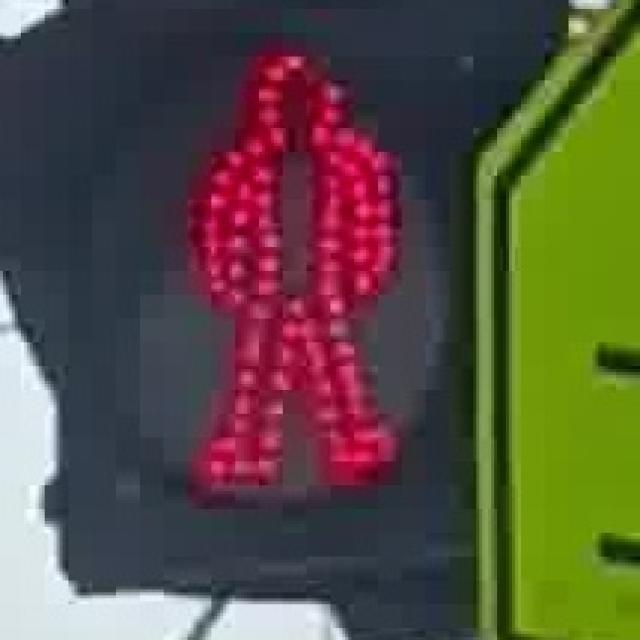red_light: (152, 30, 411, 509)
